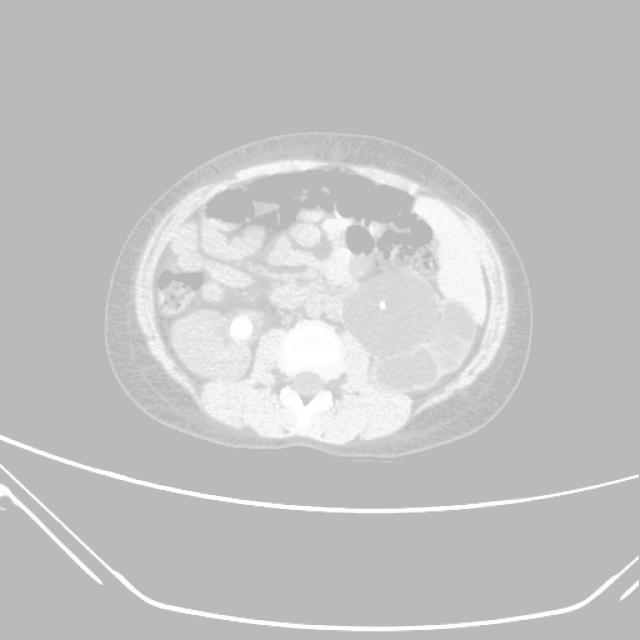STONE: (135, 136, 445, 334)
